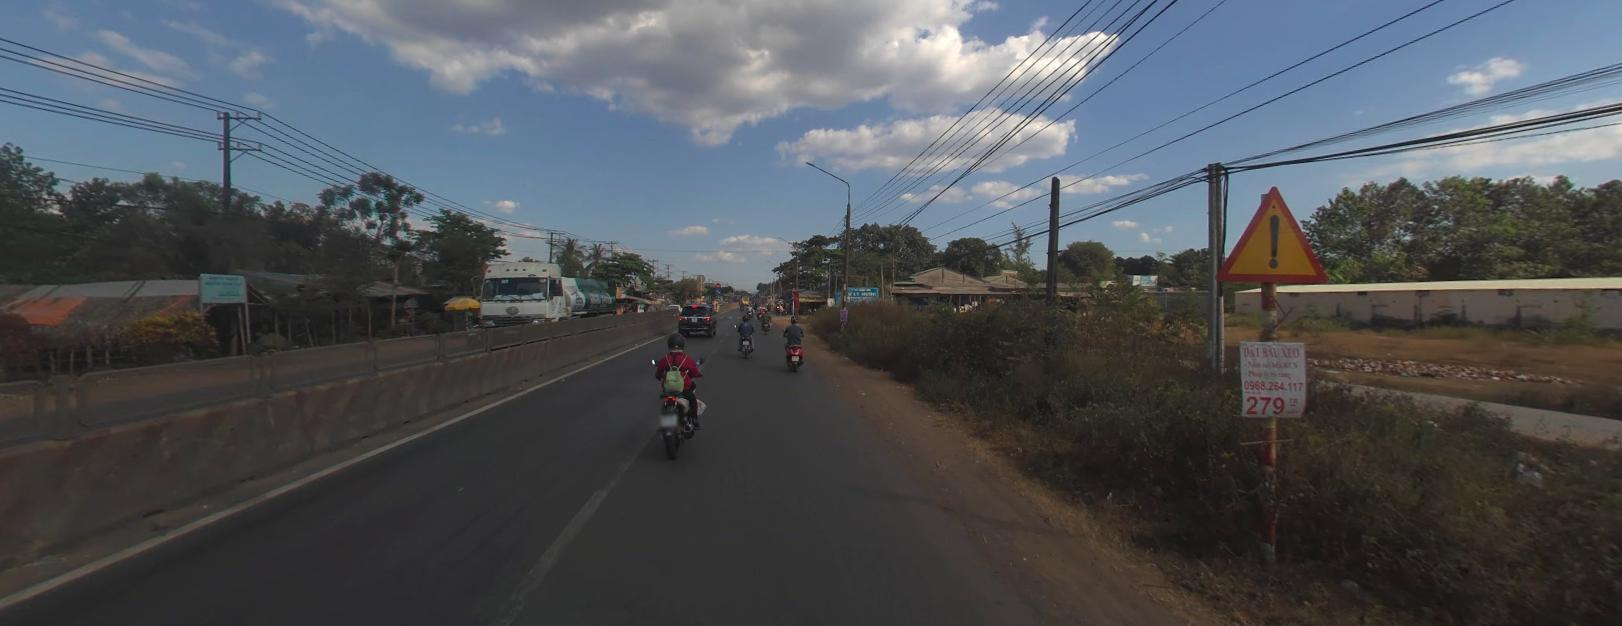Cam nguoc chieu: (715, 281, 720, 286)
Hieu lenh: (715, 287, 720, 292)
Nguy hiem: (1214, 182, 1327, 281)
